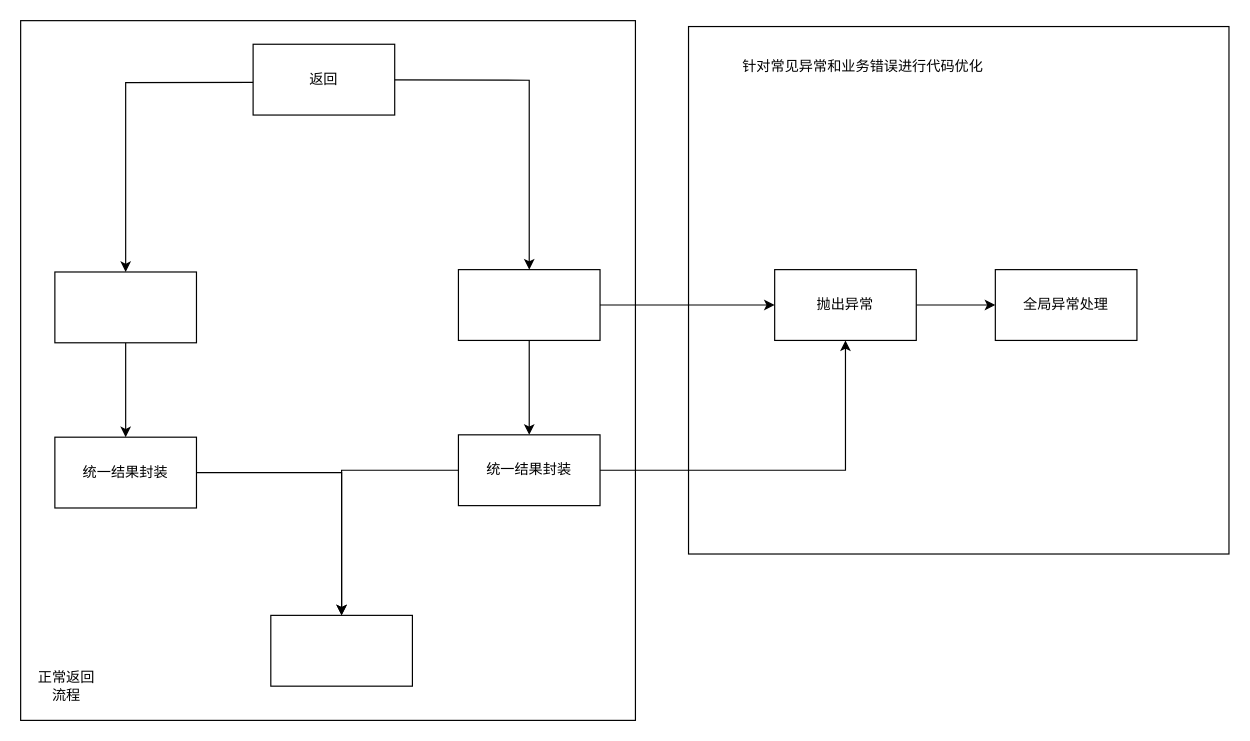
The diagram is 1250 pixels wide and 741 high, and some of its shapes have lost their labels. The shapes that lost their labels are listed below. From the top down, each one's centre as x and y in pixels, then its label:
At (125,307): "正常返回".
At (528,304): "异常".
At (341,650): "使用http rest代码返回".
